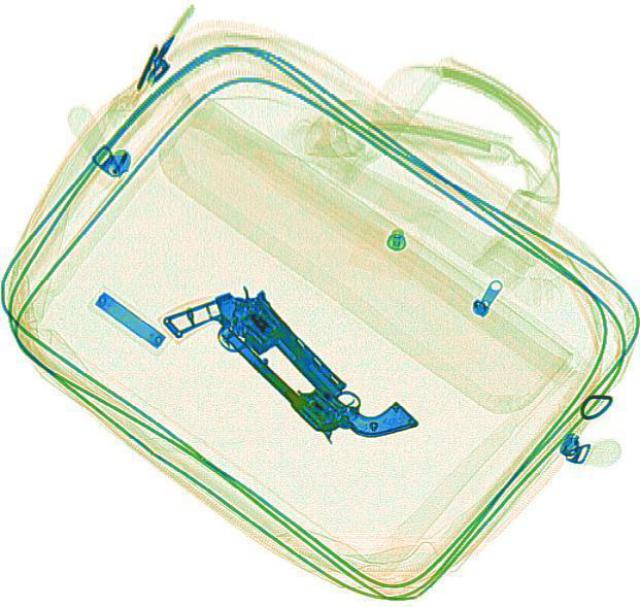Gun: (214, 282, 418, 471), (157, 266, 351, 441)
